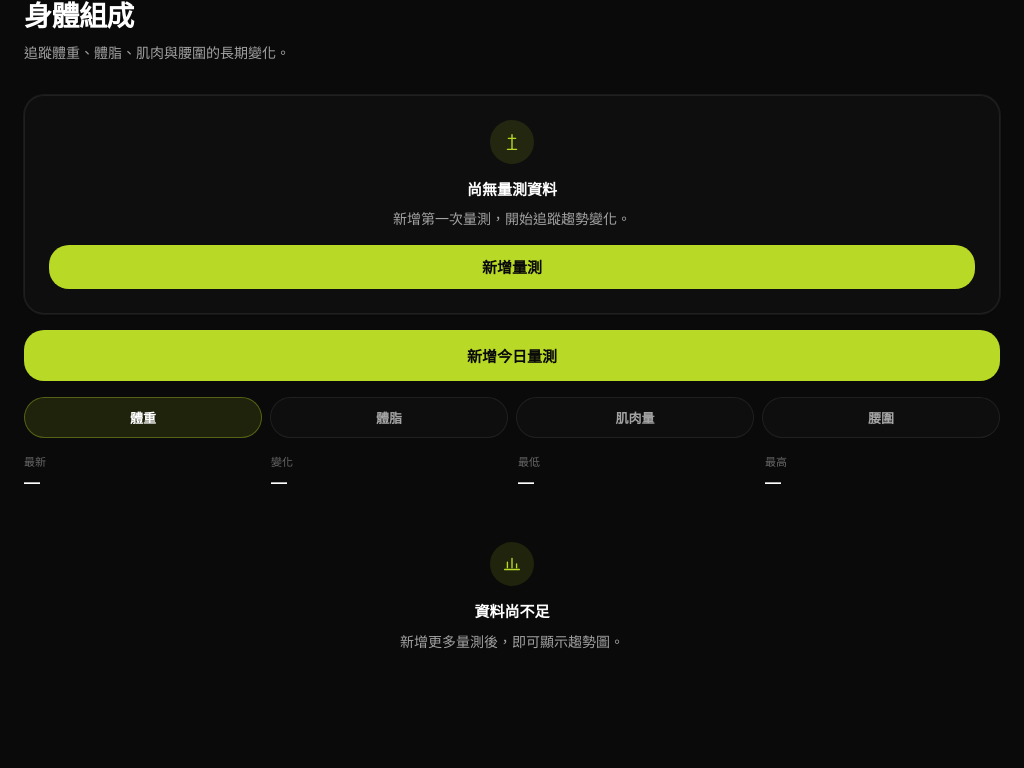
Test: BodyComposition screen › renders empty state and opens the form
Expected: the heading "身體組成" is shown, 24,0 -> 134,33
Click the button "新增今日量測" at (512, 355), box 24,330 -> 1000,381
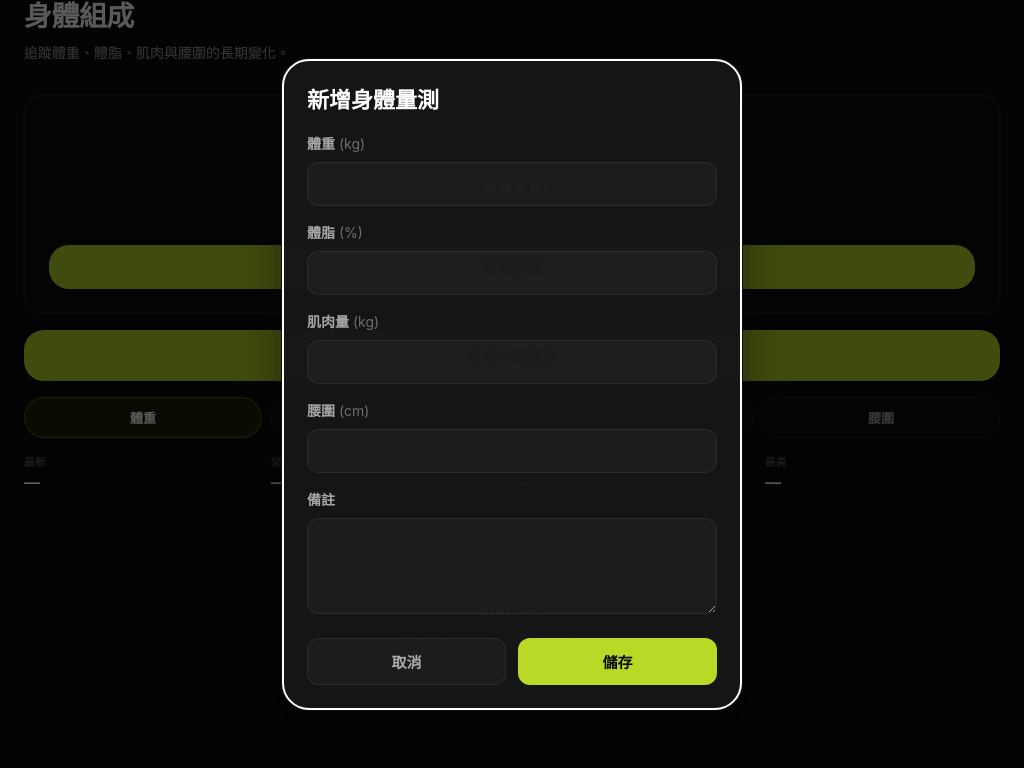
Result: the dialog is shown at 282,58 -> 742,710
